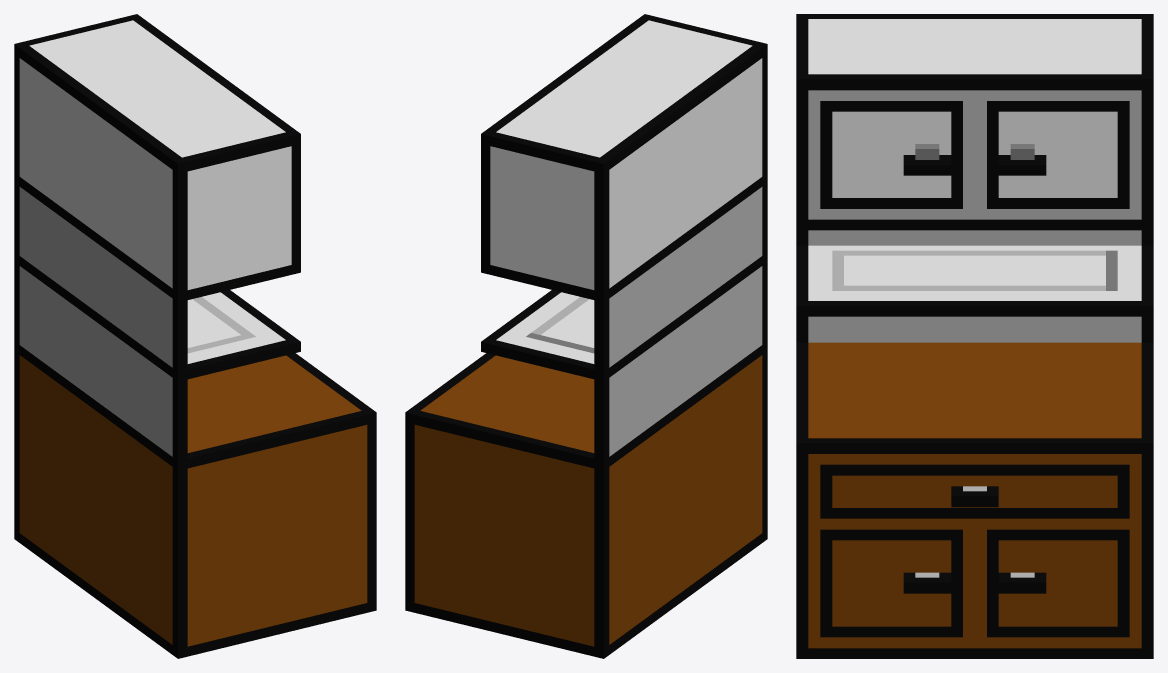
Rendered from KitchenCabinetOverhead.obj.
3 views of the same model, side by side, from view 1: azimuth 30°, elevation 25°; view 2: azimuth 150°, elevation 25°; view 3: azimuth 270°, elevation 25° (orthographic). The views are drawn at different scales.
Size of the model in its own units: 2.3 by 5 by 3.
Materials: 1 (1 with a texture image).
